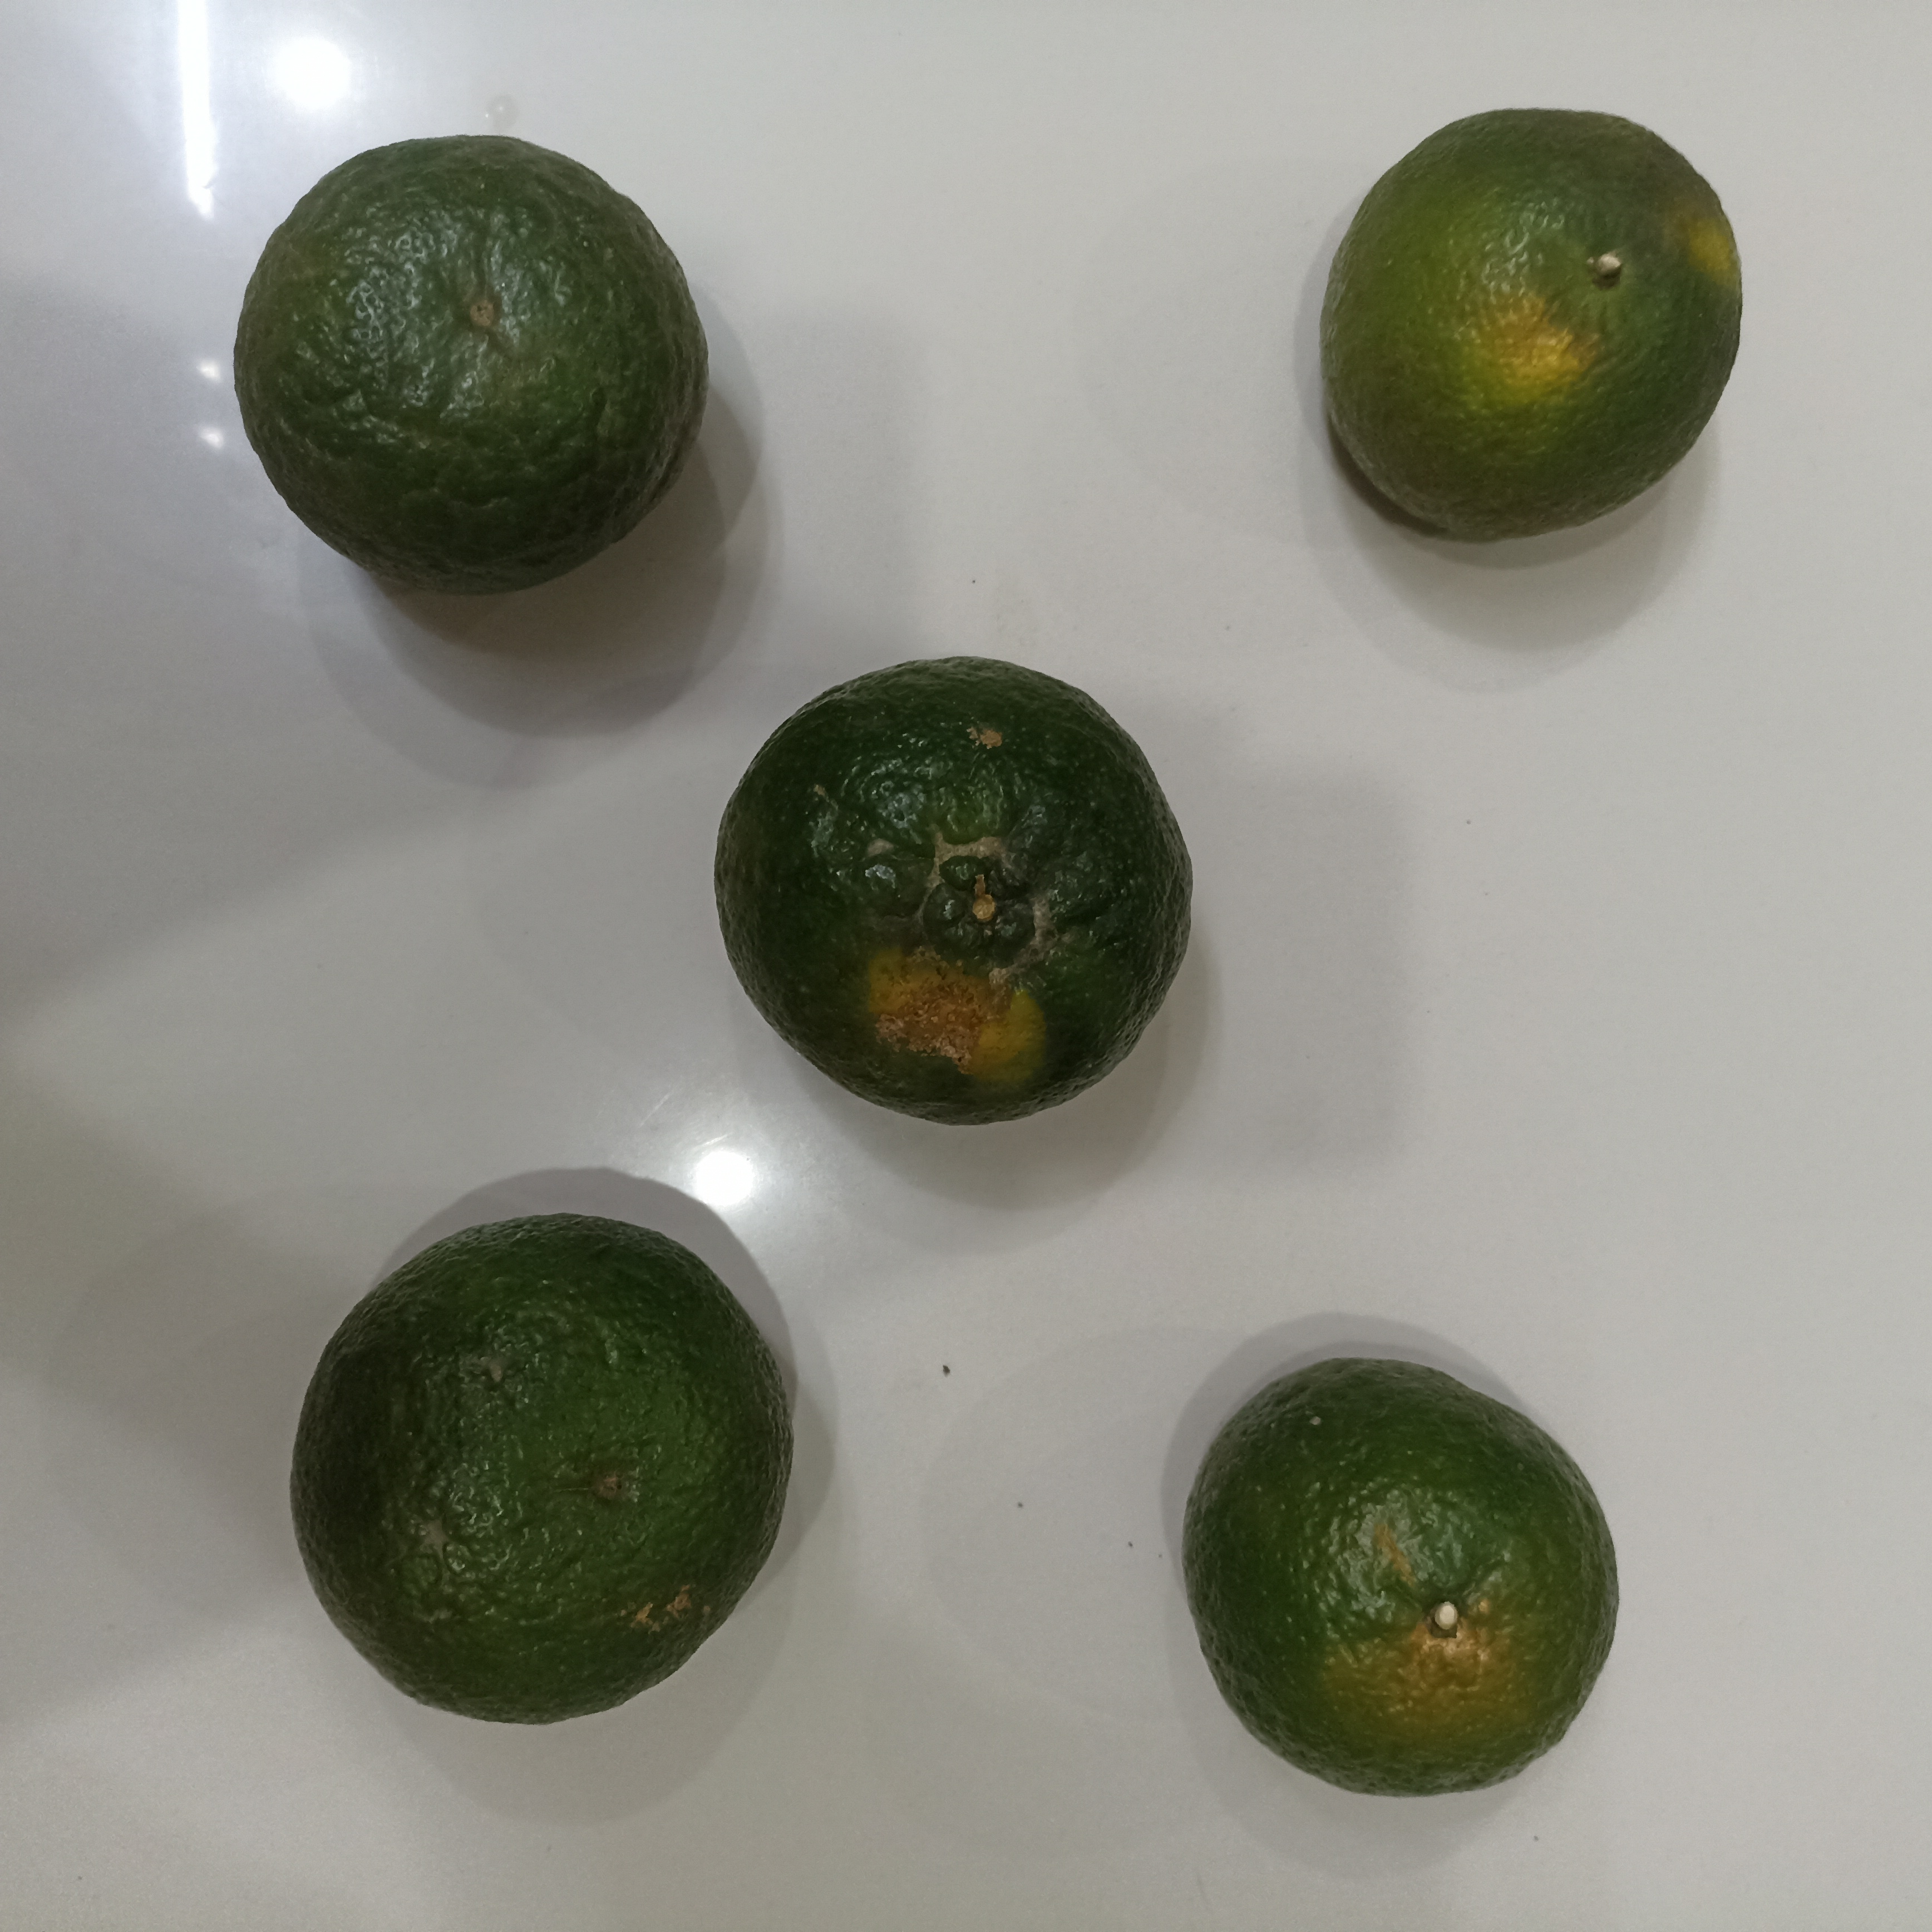Cam: (287, 1212, 793, 1734), (717, 655, 1196, 1132), (230, 129, 708, 602), (1185, 1353, 1621, 1799), (1315, 104, 1748, 540)
